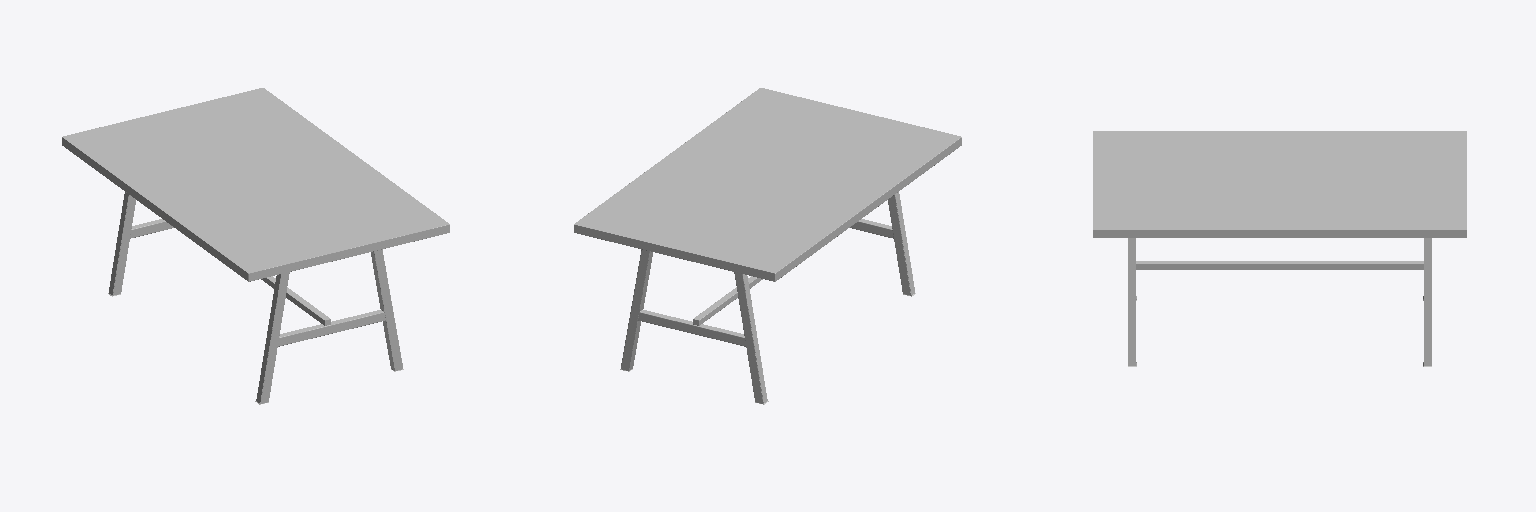
Rendered from table.obj.
The picture shows the model from 3 angles: view 1: azimuth 30°, elevation 25°; view 2: azimuth 150°, elevation 25°; view 3: azimuth 270°, elevation 25°; orthographic projection.
Parts seen in each view (by area): view 1: Plane.000, Plane.001, Plane.006; view 2: Plane.000, Plane.001, Plane.006; view 3: Plane.000, Plane.006, Plane.001.
Boxes of the visible parts, <box> form: Plane.000: <box>62,88,449,281</box>; Plane.001: <box>108,192,403,404</box>; Plane.006: <box>261,276,330,325</box>; Plane.000: <box>574,88,961,281</box>; Plane.001: <box>620,192,915,404</box>; Plane.006: <box>693,276,762,325</box>; Plane.000: <box>1093,131,1466,237</box>; Plane.006: <box>1136,261,1423,269</box>; Plane.001: <box>1128,238,1431,366</box>.
Size of the model in its own units: 1 by 0.7144 by 1.6.